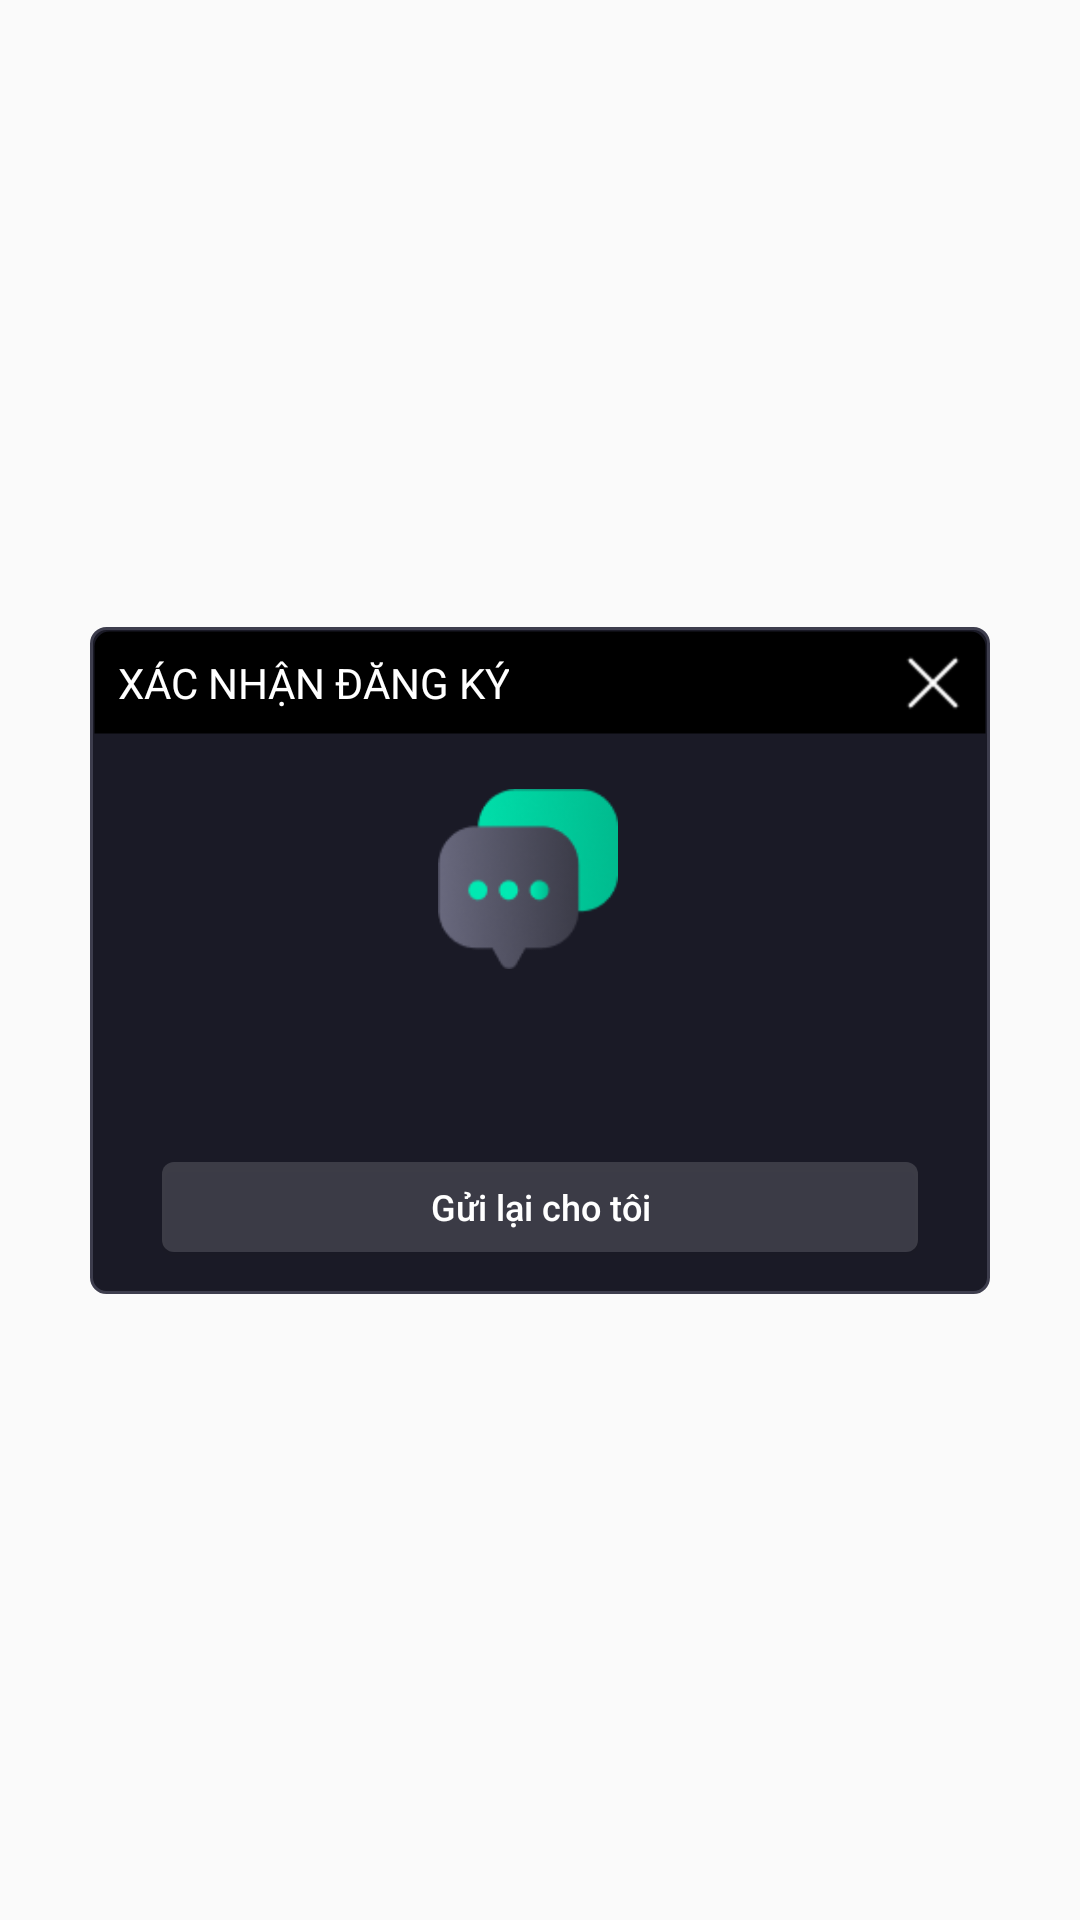

Icons on this 1080*1920 Android screen, each with its box as {"x1": x1, "y1": y1, "x2": x2, "y2": y2}:
close: {"x1": 907, "y1": 657, "x2": 959, "y2": 709}
